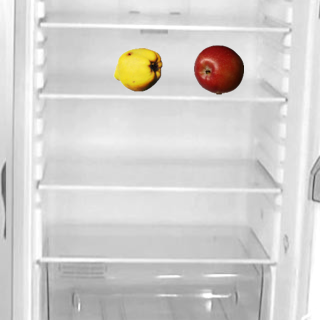Apple Braeburn: (193, 44, 243, 94)
Quince: (112, 44, 162, 94)
